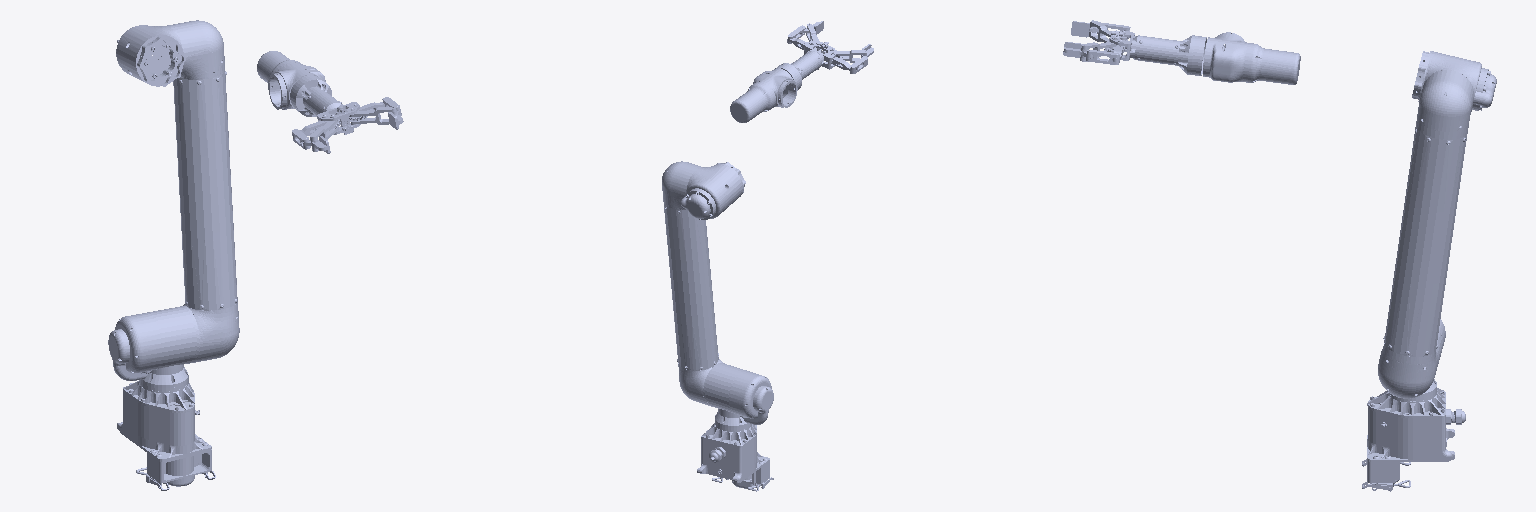
URDF robot description (mr1920_arm_urdf_export):
<?xml version="1.0" encoding="utf-8"?>
<!-- This URDF was automatically created by SolidWorks to URDF Exporter! Originally created by [author] ([email redacted]) 
     Commit Version: 1.5.1-0-g916b5db  Build Version: 1.5.7152.31018
     For more information, please see http://wiki.ros.org/sw_urdf_exporter -->
<robot
  name="mr1920_arm_urdf_export">


  <gazebo>
    <plugin name="ros_control" filename="libgazebo_ros_control.so" />
  </gazebo>

  <link name="world"/>
  <joint name="fixed_base" type="fixed">
    <origin rpy="0 0 0" xyz="0 0 0"/>
    <parent link="world"/>
    <child link="base_link"/>
  </joint>
  <link
    name="base_link">
    <inertial>
      <origin
        xyz="0.170127732931856 0.436279982851689 0.211462081788579"
        rpy="0 0 0" />
      <mass
        value="11.8959101300667" />
      <inertia
        ixx="1.46406252104376"
        ixy="-0.0570296205921714"
        ixz="-0.0108587418617453"
        iyy="0.31916144416613"
        iyz="-0.282001618806043"
        izz="1.21004138606907" />
    </inertial>
    <visual>
      <origin
        xyz="0 0 0"
        rpy="0 0 0" />
      <geometry>
        <mesh
          filename="package://rover_arm_description/meshes/base_link.STL" />
      </geometry>
      <material
        name="">
        <color
          rgba="0.792156862745098 0.819607843137255 0.933333333333333 1" />
      </material>
    </visual>
    <collision>
      <origin
        xyz="0 0 1.0"
        rpy="0 0 0" />
      <geometry>
        <mesh
          filename="package://rover_arm_description/meshes/base_link.STL" />
      </geometry>
    </collision>
  </link>
  <link
    name="shoulder">
    <inertial>
      <origin
        xyz="0.0322481709423136 0.322068900251137 0.0650112540872974"
        rpy="0 0 0" />
      <mass
        value="11.8959101300667" />
      <inertia
        ixx="1.45811837295066"
        ixy="-0.0894384984470032"
        ixz="-0.0399063732169981"
        iyy="0.31916144416613"
        iyz="-0.273455747113973"
        izz="1.21598553416217" />
    </inertial>
    <visual>
      <origin
        xyz="0 0 0"
        rpy="0 0 0" />
      <geometry>
        <mesh
          filename="package://rover_arm_description/meshes/shoulder.STL" />
      </geometry>
      <material
        name="">
        <color
          rgba="0.792156862745098 0.819607843137255 0.933333333333333 1" />
      </material>
    </visual>
    <collision>
      <origin
        xyz="0 0 0"
        rpy="0 0 0" />
      <geometry>
        <mesh
          filename="package://rover_arm_description/meshes/shoulder.STL" />
      </geometry>
    </collision>
  </link>
  <joint
    name="base_roll"
    type="revolute">
    <origin
      xyz="0.14566 -0.14314 0.11421"
      rpy="1.5708 0 -0.11656" />
    <parent
      link="base_link" />
    <child
      link="shoulder" />
    <axis
      xyz="0 1 0" />
    <limit lower="-6.28" upper="6.28" effort="150.0" velocity="3.15"/>
  </joint>
  <link
    name="upper_arm">
    <inertial>
      <origin
        xyz="0.0144800240228239 -0.0958264031550247 0.228736362470933"
        rpy="0 0 0" />
      <mass
        value="11.8959101300667" />
      <inertia
        ixx="1.45811837295066"
        ixy="0.0512875953774074"
        ixz="-0.0834346821663045"
        iyy="1.12948798516151"
        iyz="0.380617006078215"
        izz="0.40565899316679" />
    </inertial>
    <visual>
      <origin
        xyz="0 0 0"
        rpy="0 0 0" />
      <geometry>
        <mesh
          filename="package://rover_arm_description/meshes/upper_arm.STL" />
      </geometry>
      <material
        name="">
        <color
          rgba="0.792156862745098 0.819607843137255 0.933333333333333 1" />
      </material>
    </visual>
    <collision>
      <origin
        xyz="0 0 0"
        rpy="0 0 0" />
      <geometry>
        <mesh
          filename="package://rover_arm_description/meshes/upper_arm.STL" />
      </geometry>
    </collision>
  </link>
  <joint
    name="shoulder_pitch"
    type="revolute">
    <origin
      xyz="0.017768 0.082744 0"
      rpy="-1.7023 0 0" />
    <parent
      link="shoulder" />
    <child
      link="upper_arm" />
    <axis
      xyz="1 0 0" />
    <limit lower="-6.28" upper="6.28" effort="150.0" velocity="3.15"/>
  </joint>
  <link
    name="elbow">
    <inertial>
      <origin
        xyz="0.014480024022824 -0.301114395650102 0.073957891563733"
        rpy="0 0 0" />
      <mass
        value="11.8959101300667" />
      <inertia
        ixx="1.45811837295066"
        ixy="-0.0794516767842558"
        ixz="-0.0572642531074918"
        iyy="0.465184100930568"
        iyz="-0.429432259632049"
        izz="1.06996287739773" />
    </inertial>
    <visual>
      <origin
        xyz="0 0 0"
        rpy="0 0 0" />
      <geometry>
        <mesh
          filename="package://rover_arm_description/meshes/elbow.STL" />
      </geometry>
      <material
        name="">
        <color
          rgba="0.792156862745098 0.819607843137255 0.933333333333333 1" />
      </material>
    </visual>
    <collision>
      <origin
        xyz="0 0 0"
        rpy="0 0 0" />
      <geometry>
        <mesh
          filename="package://rover_arm_description/meshes/elbow.STL" />
      </geometry>
    </collision>
  </link>
  <joint
    name="elbow_pitch"
    type="revolute">
    <origin
      xyz="0 0 0.52362"
      rpy="1.4974 0 0" />
    <parent
      link="upper_arm" />
    <child
      link="elbow" />
    <axis
      xyz="1 0 0" />
    <limit lower="-6.28" upper="6.28" effort="150.0" velocity="3.15"/>
  </joint>
  <link
    name="lower_arm">
    <inertial>
      <origin
        xyz="0.0298945481187236 -0.301196489380201 0.0384968731621654"
        rpy="0 0 0" />
      <mass
        value="11.8959101300667" />
      <inertia
        ixx="1.45768059602485"
        ixy="-0.0821404955446858"
        ixz="-0.0584274337510379"
        iyy="0.465621877856375"
        iyz="-0.429275547034669"
        izz="1.06996287739773" />
    </inertial>
    <visual>
      <origin
        xyz="0 0 0"
        rpy="0 0 0" />
      <geometry>
        <mesh
          filename="package://rover_arm_description/meshes/lower_arm.STL" />
      </geometry>
      <material
        name="">
        <color
          rgba="0.792156862745098 0.819607843137255 0.933333333333333 1" />
      </material>
    </visual>
    <collision>
      <origin
        xyz="0 0 0"
        rpy="0 0 0" />
      <geometry>
        <mesh
          filename="package://rover_arm_description/meshes/lower_arm.STL" />
      </geometry>
    </collision>
  </link>
  <joint
    name="elbow_roll"
    type="revolute">
    <origin
      xyz="-0.01623 0 0.035461"
      rpy="0 0 0.0027091" />
    <parent
      link="elbow" />
    <child
      link="lower_arm" />
    <axis
      xyz="0 0 1" />
    <limit lower="-6.28" upper="6.28" effort="150.0" velocity="3.15"/>
  </joint>
  <link
    name="wrist">
    <inertial>
      <origin
        xyz="0.0227338507110884 0.334629591149215 -0.282280135583135"
        rpy="0 0 0" />
      <mass
        value="11.8959101300667" />
      <inertia
        ixx="1.45768059602485"
        ixy="-0.0881232960552545"
        ixz="0.0489398683632909"
        iyy="0.378286501030348"
        iyz="0.351951244223128"
        izz="1.15729825422376" />
    </inertial>
    <visual>
      <origin
        xyz="0 0 0"
        rpy="0 0 0" />
      <geometry>
        <mesh
          filename="package://rover_arm_description/meshes/wrist.STL" />
      </geometry>
      <material
        name="">
        <color
          rgba="0.792156862745098 0.819607843137255 0.933333333333333 1" />
      </material>
    </visual>
    <collision>
      <origin
        xyz="0 0 0"
        rpy="0 0 0" />
      <geometry>
        <mesh
          filename="package://rover_arm_description/meshes/wrist.STL" />
      </geometry>
    </collision>
  </link>
  <joint
    name="wrist_pitch"
    type="revolute">
    <origin
      xyz="0.052628 0 0.35621"
      rpy="-0.11133 0 3.1416" />
    <parent
      link="lower_arm" />
    <child
      link="wrist" />
    <axis
      xyz="1 0 0" />
    <limit lower="-6.28" upper="6.28" effort="150.0" velocity="3.15"/>
  </joint>
  <link
    name="gripper">
    <inertial>
      <origin
        xyz="-0.143779874198148 -0.335855430230703 0.315822421564397"
        rpy="0 0 0" />
      <mass
        value="11.8959101300667" />
      <inertia
        ixx="1.40292475538702"
        ixy="-0.104143862131174"
        ixz="0.252726421797617"
        iyy="1.15729825422376"
        iyz="0.339733491145671"
        izz="0.433042341668182" />
    </inertial>
    <visual>
      <origin
        xyz="0 0 0"
        rpy="0 0 0" />
      <geometry>
        <mesh
          filename="package://rover_arm_description/meshes/gripper.STL" />
      </geometry>
      <material
        name="">
        <color
          rgba="0.792156862745098 0.819607843137255 0.933333333333333 1" />
      </material>
    </visual>
    <collision>
      <origin
        xyz="0 0 0"
        rpy="0 0 0" />
      <geometry>
        <mesh
          filename="package://rover_arm_description/meshes/gripper.STL" />
      </geometry>
    </collision>
  </link>
  <joint
    name="wrist_roll"
    type="revolute">
    <origin
      xyz="-0.069133 0 0.053575"
      rpy="1.5708 0 -2.9823" />
    <parent
      link="wrist" />
    <child
      link="gripper" />
    <axis
      xyz="0 1 0" />
    <limit lower="-6.28" upper="6.28" effort="150.0" velocity="3.15"/>
  </joint>

  <transmission name="shoulder_pitch_trans">
    <type>transmission_interface/SimpleTransmission</type>
    <joint name="shoulder_pitch">
      <hardwareInterface>hardware_interface/PositionJointInterface</hardwareInterface>
    </joint>
    <actuator name="shoulder_pitch_motor">
      <mechanicalReduction>1</mechanicalReduction>
    </actuator>
  </transmission>

  <transmission name="elbow_pitch_trans">
    <type>transmission_interface/SimpleTransmission</type>
    <joint name="elbow_pitch">
      <hardwareInterface>hardware_interface/PositionJointInterface</hardwareInterface>
    </joint>
    <actuator name="elbow_pitch_motor">
      <mechanicalReduction>1</mechanicalReduction>
    </actuator>
  </transmission>

  <transmission name="elbow_roll_trans">
    <type>transmission_interface/SimpleTransmission</type>
    <joint name="elbow_roll">
      <hardwareInterface>hardware_interface/PositionJointInterface</hardwareInterface>
    </joint>
    <actuator name="elbow_roll_motor">
      <mechanicalReduction>1</mechanicalReduction>
    </actuator>
  </transmission>

  <transmission name="wrist_pitch_trans">
    <type>transmission_interface/SimpleTransmission</type>
    <joint name="wrist_pitch">
      <hardwareInterface>hardware_interface/PositionJointInterface</hardwareInterface>
    </joint>
    <actuator name="wrist_pitch_motor">
      <mechanicalReduction>1</mechanicalReduction>
    </actuator>
  </transmission>

  <transmission name="wrist_roll_trans">
    <type>transmission_interface/SimpleTransmission</type>
    <joint name="wrist_roll">
      <hardwareInterface>hardware_interface/PositionJointInterface</hardwareInterface>
    </joint>
    <actuator name="wrist_roll_motor">
      <mechanicalReduction>1</mechanicalReduction>
    </actuator>
  </transmission>

  <transmission name="base_roll_trans">
    <type>transmission_interface/SimpleTransmission</type>
    <joint name="base_roll">
      <hardwareInterface>hardware_interface/PositionJointInterface</hardwareInterface>
    </joint>
    <actuator name="base_roll_motor">
      <mechanicalReduction>1</mechanicalReduction>
    </actuator>
  </transmission>


</robot>

--- Facts derived from the render (not from the file) ---
Views: 3 orthographic renders of the robot side by side, from view 1: azimuth 30°, elevation 25°; view 2: azimuth 150°, elevation 25°; view 3: azimuth 270°, elevation 25°.
Model mr1920_arm_urdf_export with 8 links and 7 joints (6 revolute, 1 fixed), rooted at world, posed all joints at 0.
Links seen in each view (by area): view 1: upper_arm, base_link, shoulder, gripper, elbow, wrist; view 2: upper_arm, base_link, shoulder, elbow, wrist, gripper; view 3: upper_arm, base_link, wrist, gripper, elbow.
Boxes of the visible links, left/top/right/bottom form: upper_arm: left=171, top=20, right=239, bottom=362; base_link: left=117, top=378, right=215, bottom=490; shoulder: left=108, top=306, right=200, bottom=387; gripper: left=292, top=78, right=403, bottom=153; elbow: left=116, top=25, right=185, bottom=86; wrist: left=257, top=51, right=325, bottom=111; upper_arm: left=662, top=161, right=724, bottom=405; base_link: left=697, top=423, right=773, bottom=491; shoulder: left=703, top=363, right=773, bottom=427; elbow: left=681, top=162, right=745, bottom=219; wrist: left=730, top=64, right=799, bottom=122; gripper: left=781, top=21, right=873, bottom=89; upper_arm: left=1378, top=70, right=1473, bottom=398; base_link: left=1362, top=388, right=1465, bottom=491; wrist: left=1191, top=32, right=1300, bottom=84; gripper: left=1063, top=20, right=1195, bottom=74; elbow: left=1412, top=51, right=1496, bottom=111.
Bounding box of the posed robot: 0.2576 × 0.7606 × 0.9048 m (x, y, z).
6 mesh visuals loaded from 7 distinct referenced files (6 binary STL); not drawn: 1 (reference not matched to a file when rendering).